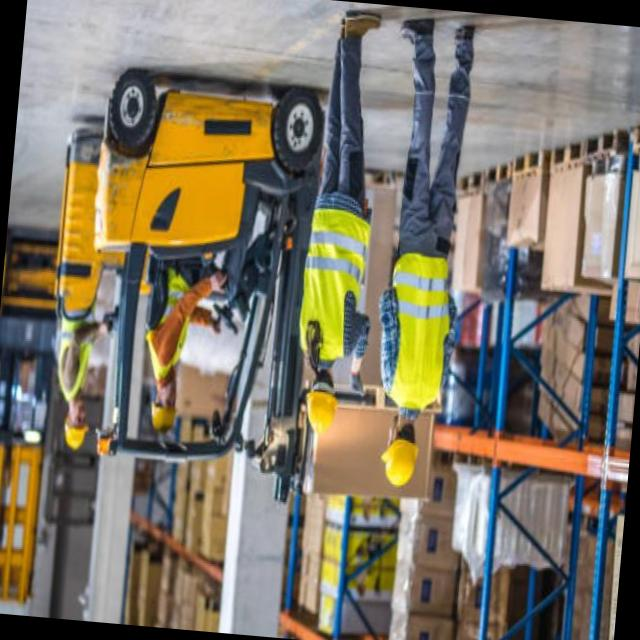driver: (135, 230, 250, 440)
forklift: (57, 60, 348, 522)
person: (362, 8, 488, 494), (287, 6, 396, 442), (45, 318, 100, 456)
